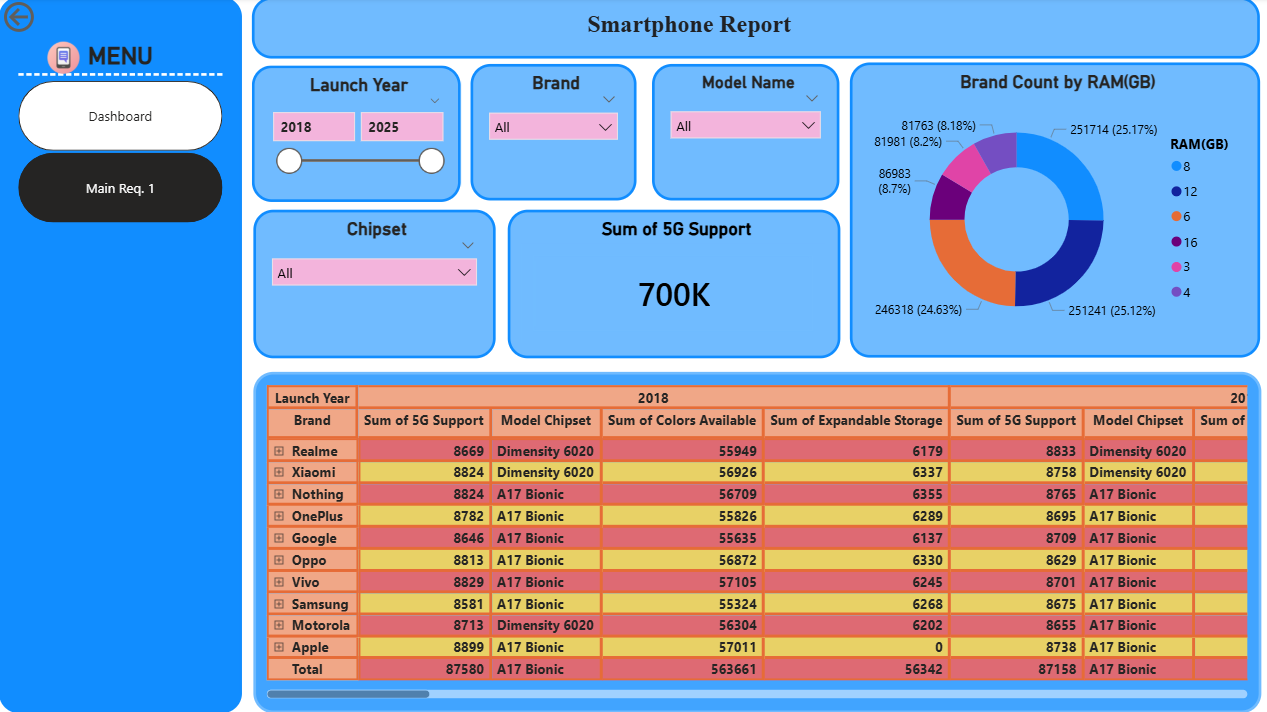

Layout of this report page (visuals, bound fields, positions):
{"tool":"powerbi","page":{"name":"Main Req. 1","canvas":[1280,720],"ordinal":1},"visuals":[{"type":"textbox","box":[254.6,0,1012.4,61.7],"z":0},{"type":"slicer","title":"Launch Year","fields":{"Values":["smartphone_dataset_1M.launch_year"]},"box":[254.6,69.4,209.9,137.3],"z":1000},{"type":"slicer","title":"Brand ","fields":{"Values":["smartphone_dataset_1M.brand"]},"box":[473.8,67.9,166.7,137.3],"z":2000},{"type":"slicer","title":"Model Name","fields":{"Values":["smartphone_dataset_1M.model_name"]},"box":[655.9,67.9,188.3,137.3],"z":3000},{"type":"slicer","title":"Chipset","fields":{"Values":["smartphone_dataset_1M.chipset"]},"box":[256.1,213.9,243.1,149.1],"z":4000},{"type":"shape","box":[0,0,244.3,719.1],"z":5000},{"type":"pageNavigator","title":"MENU","box":[20,45,205,183.3],"z":6000},{"type":"image","box":[35.6,45.6,57.8,32.2],"z":7000},{"type":"actionButton","box":[0,0,100,40],"z":8000},{"type":"pivotTable","fields":{"Rows":["smartphone_dataset_1M.brand","smartphone_dataset_1M.model_name"],"Columns":["smartphone_dataset_1M.launch_year"],"Values":["Sum(smartphone_dataset_1M.5g_support)","Min(smartphone_dataset_1M.chipset)","Sum(smartphone_dataset_1M.colors_available)","Sum(smartphone_dataset_1M.expandable_storage)"]},"box":[256.2,376.6,1012.4,342.6],"z":9000},{"type":"donutChart","title":"Brand Count by RAM(GB)","fields":{"Category":["smartphone_dataset_1M.ram_gb"],"Y":["CountNonNull(smartphone_dataset_1M.brand)"]},"box":[855,66.4,412,296.3],"z":10000},{"type":"cardVisual","title":"Sum of 5G Support","fields":{"Data":["Sum(smartphone_dataset_1M.5g_support)"]},"box":[510.5,213.9,333.9,149.1],"z":11000}]}

Visuals, with their boxes in screenshot pixels (x1, y1, x2, y2), scaled from the page's 1280x720 canvas onto the 1267x712 screenshot:
textbox: region(252, 0, 1254, 61)
"Launch Year" slicer: region(252, 69, 460, 204)
"Brand " slicer: region(469, 67, 634, 203)
"Model Name" slicer: region(649, 67, 836, 203)
"Chipset" slicer: region(253, 212, 494, 359)
shape: region(0, 0, 242, 711)
"MENU" pageNavigator: region(20, 44, 223, 226)
image: region(35, 45, 92, 77)
actionButton: region(0, 0, 99, 40)
pivotTable - smartphone_dataset_1M.brand x smartphone_dataset_1M.model_name: region(254, 372, 1256, 711)
"Brand Count by RAM(GB)" donutChart: region(846, 66, 1254, 359)
"Sum of 5G Support" cardVisual: region(505, 212, 836, 359)
